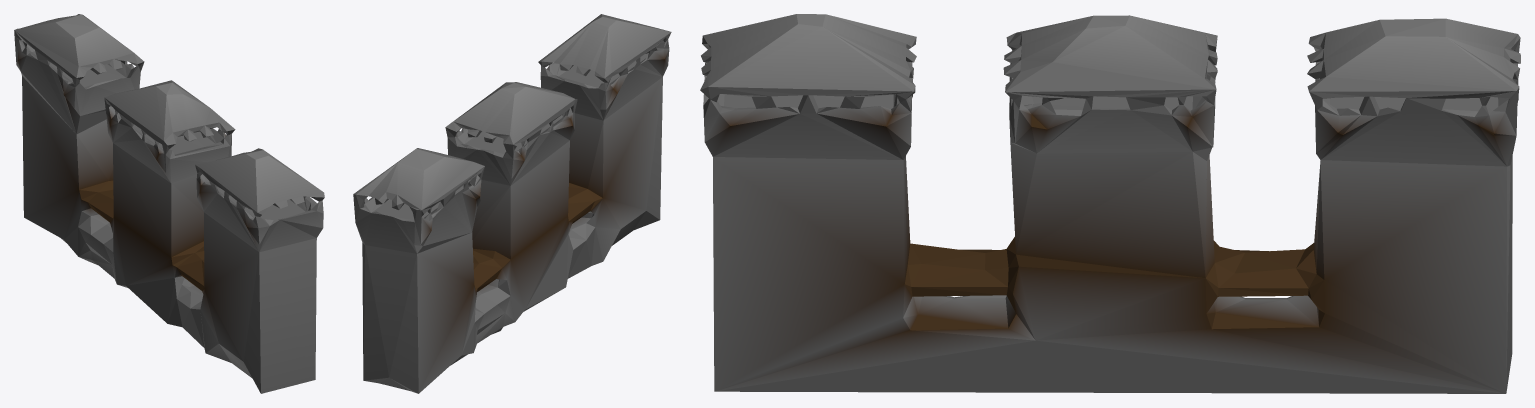
File: Medieval Walls(1).glb
3 renders of one model, left to right at view 1: azimuth 30°, elevation 25°; view 2: azimuth 150°, elevation 25°; view 3: azimuth 270°, elevation 25°, orthographic. The views are drawn at different scales.
Visible parts, largest first — view 1: id0; view 2: id0; view 3: id0.
Boxes of the visible parts, x1,y1,x2,y2 form: id0: (14, 14, 324, 393); id0: (353, 14, 671, 393); id0: (700, 14, 1520, 393).
Size of the model in its own units: 8.34 by 22.25 by 46.64.
